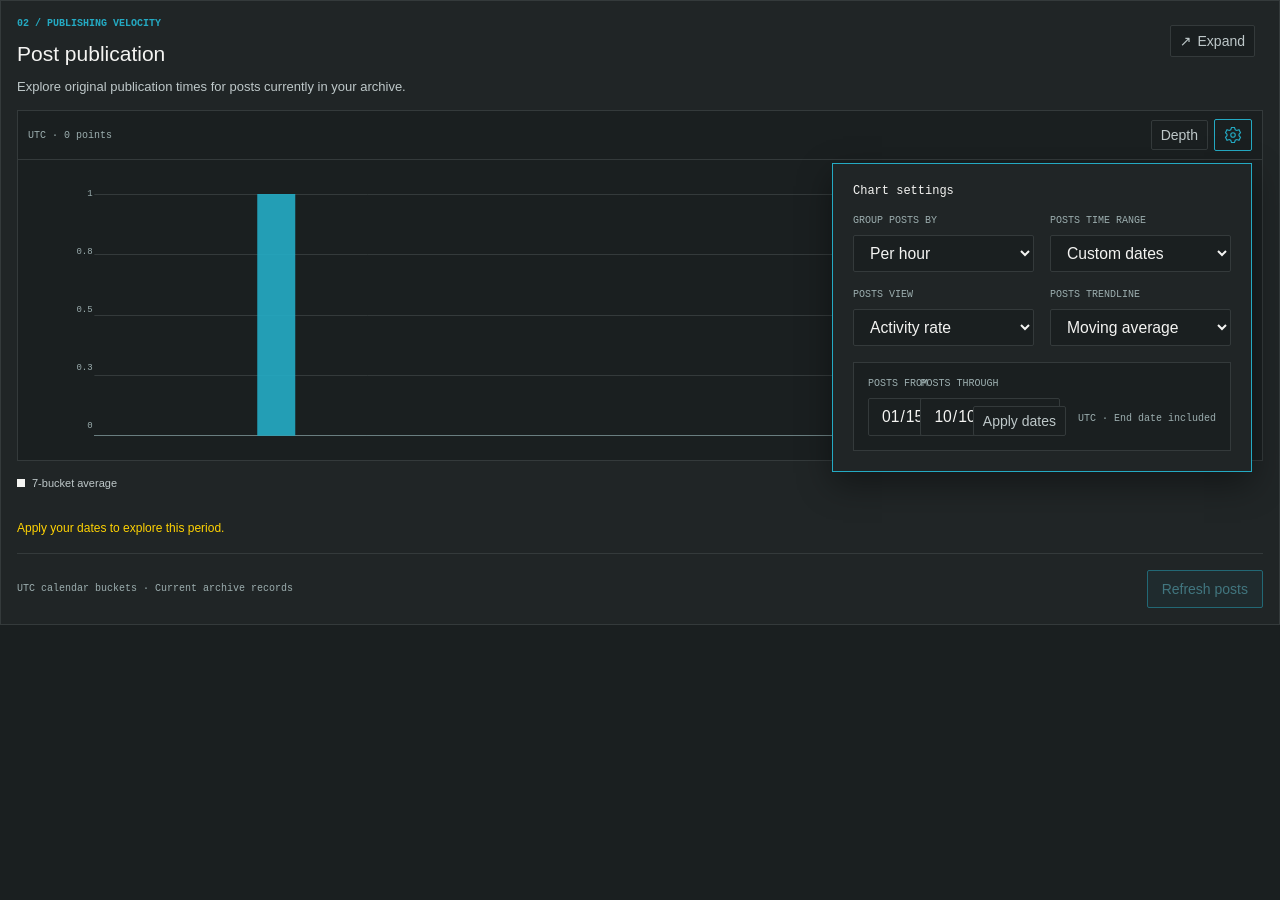
keeps hourly custom dates, full totals, and cumulative counts while navigating history
Earlier steps of the test are not shown.
Later steps or results of the test are not shown.
What coordinates should you click on to do the following:
click the button "Apply dates"
I would click on:
 (1019, 421)
Its box is x1=973 y1=406 x2=1066 y2=436.
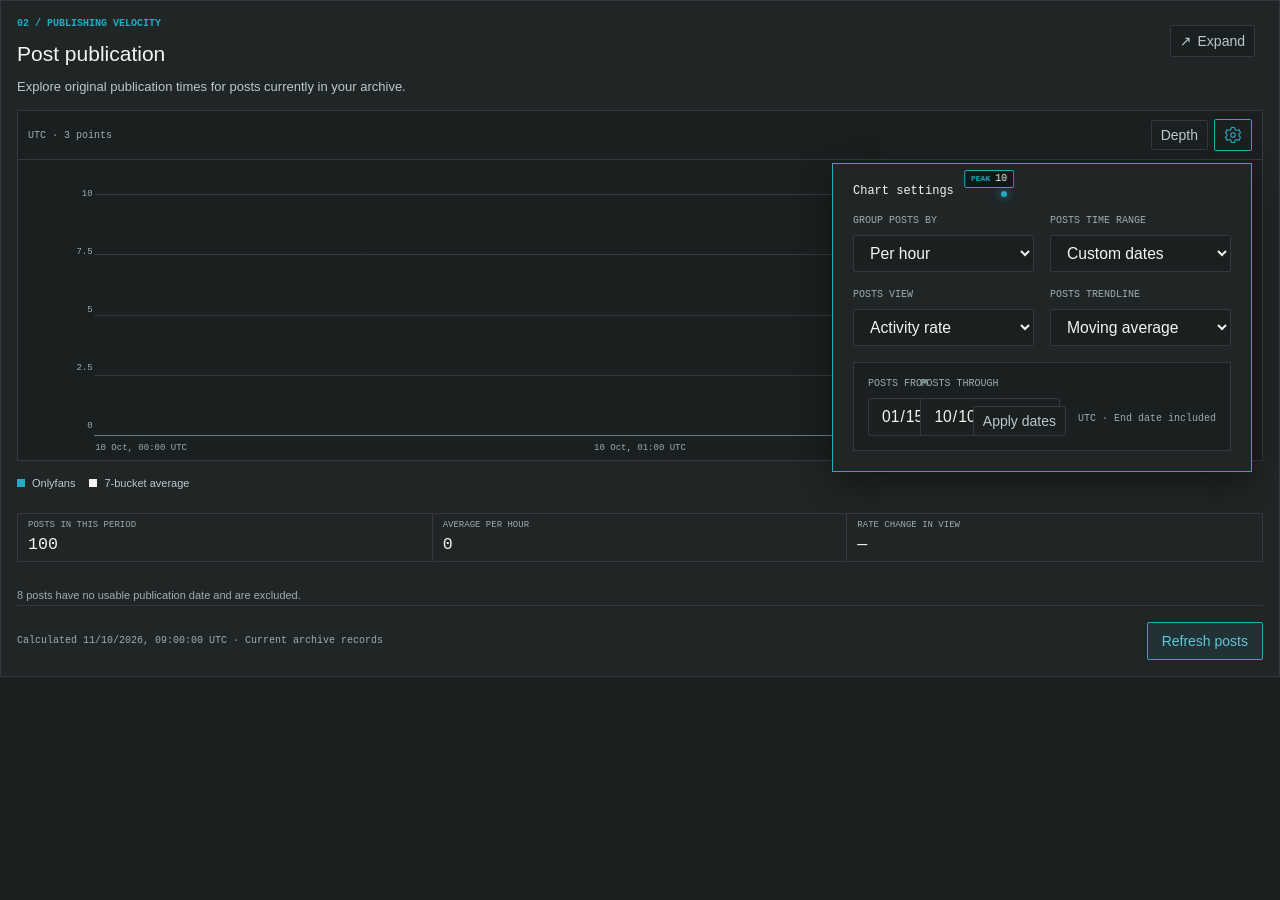
Result: the picture named "Posts per hour bar graph" is shown at x1=18 y1=160 x2=1262 y2=460
Result: the element with class "statistics-activity__summary" shows "100" at x1=28 y1=535 x2=58 y2=554
